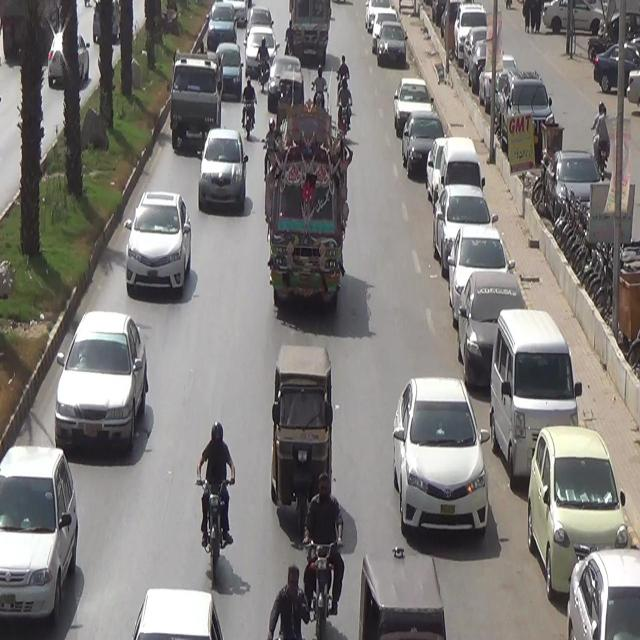car: (387, 374, 495, 550), (0, 437, 81, 630), (52, 305, 145, 456), (122, 184, 194, 309), (195, 132, 246, 212), (247, 22, 281, 83), (209, 44, 242, 98), (204, 0, 236, 53)
motorbike: (302, 470, 349, 638), (195, 420, 240, 590), (242, 81, 261, 148), (334, 85, 354, 142), (259, 42, 275, 98), (334, 52, 351, 95), (313, 69, 325, 113)
truck: (166, 57, 224, 155)
